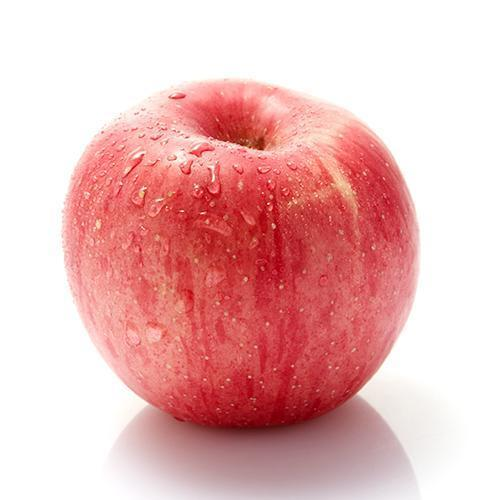apple: (60, 75, 421, 428)
